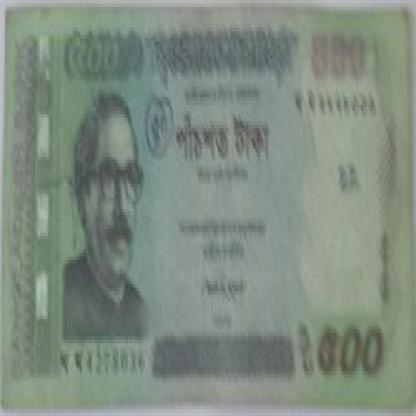500 taka: (55, 24, 141, 80)
currency: (2, 4, 414, 402)
